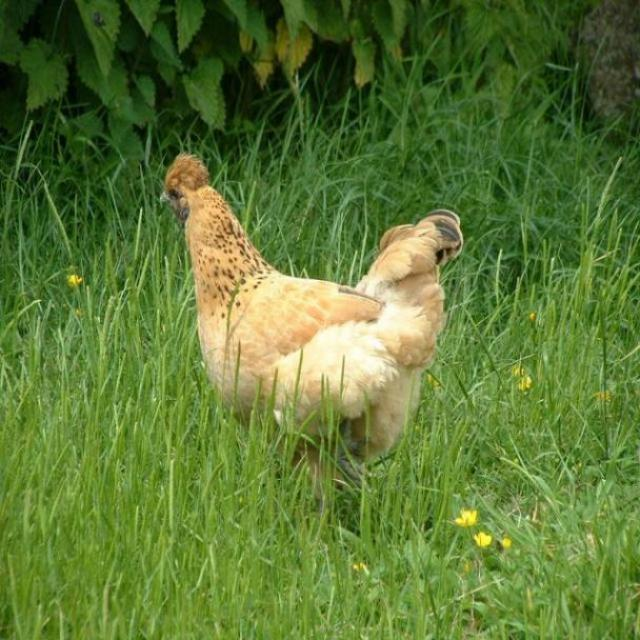Chicken: (160, 157, 463, 499)
